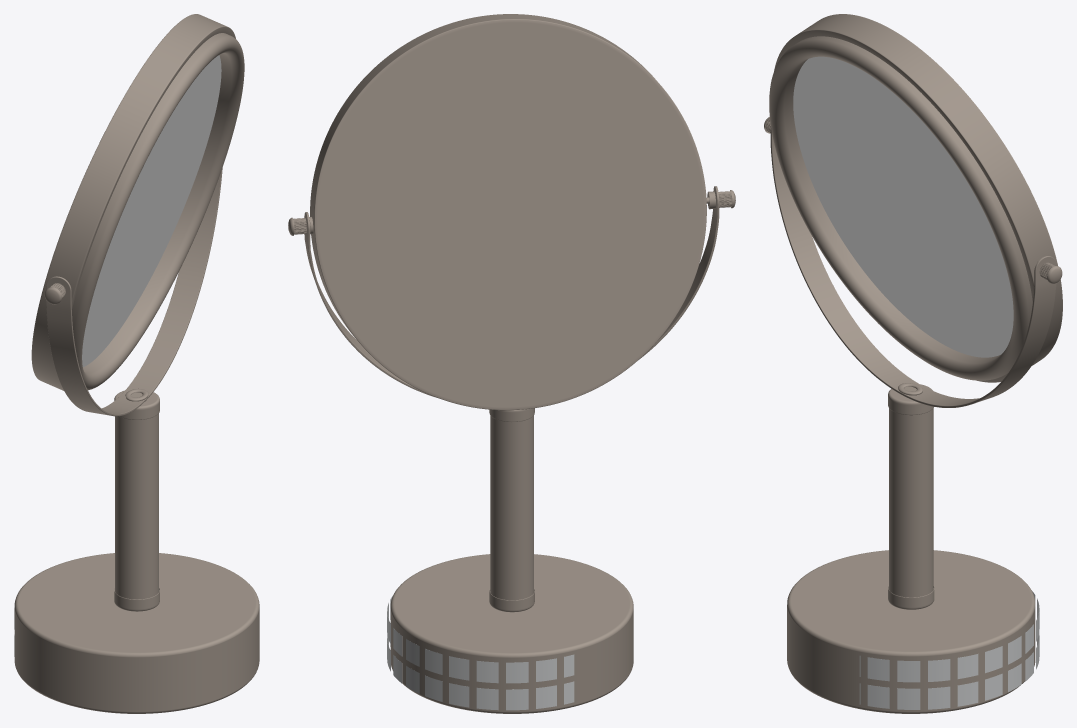
File: Mirror_11.3.fbx
3 views of the same model, side by side, from view 1: azimuth 30°, elevation 25°; view 2: azimuth 150°, elevation 25°; view 3: azimuth 270°, elevation 25° (orthographic). The views are drawn at different scales.
Visible parts, largest first — view 1: Arch46_038_3, Arch46_038_4, Arch46_038_5; view 2: Arch46_038_4, Arch46_038_3, Arch46_038_2; view 3: Arch46_038_3, Arch46_038_5, Arch46_038_4, Arch46_038_2.
Part boxes in pixels (left/top/right/bottom): Arch46_038_3: left=14, top=168, right=259, bottom=713; Arch46_038_4: left=31, top=14, right=244, bottom=390; Arch46_038_5: left=82, top=55, right=221, bottom=367; Arch46_038_4: left=310, top=14, right=706, bottom=410; Arch46_038_3: left=288, top=186, right=735, bottom=713; Arch46_038_2: left=387, top=596, right=574, bottom=710; Arch46_038_3: left=764, top=117, right=1062, bottom=713; Arch46_038_5: left=793, top=56, right=1013, bottom=357; Arch46_038_4: left=769, top=14, right=1062, bottom=382; Arch46_038_2: left=859, top=591, right=1039, bottom=709.
Size of the model in its own units: 17.49 by 33.73 by 14.16.
